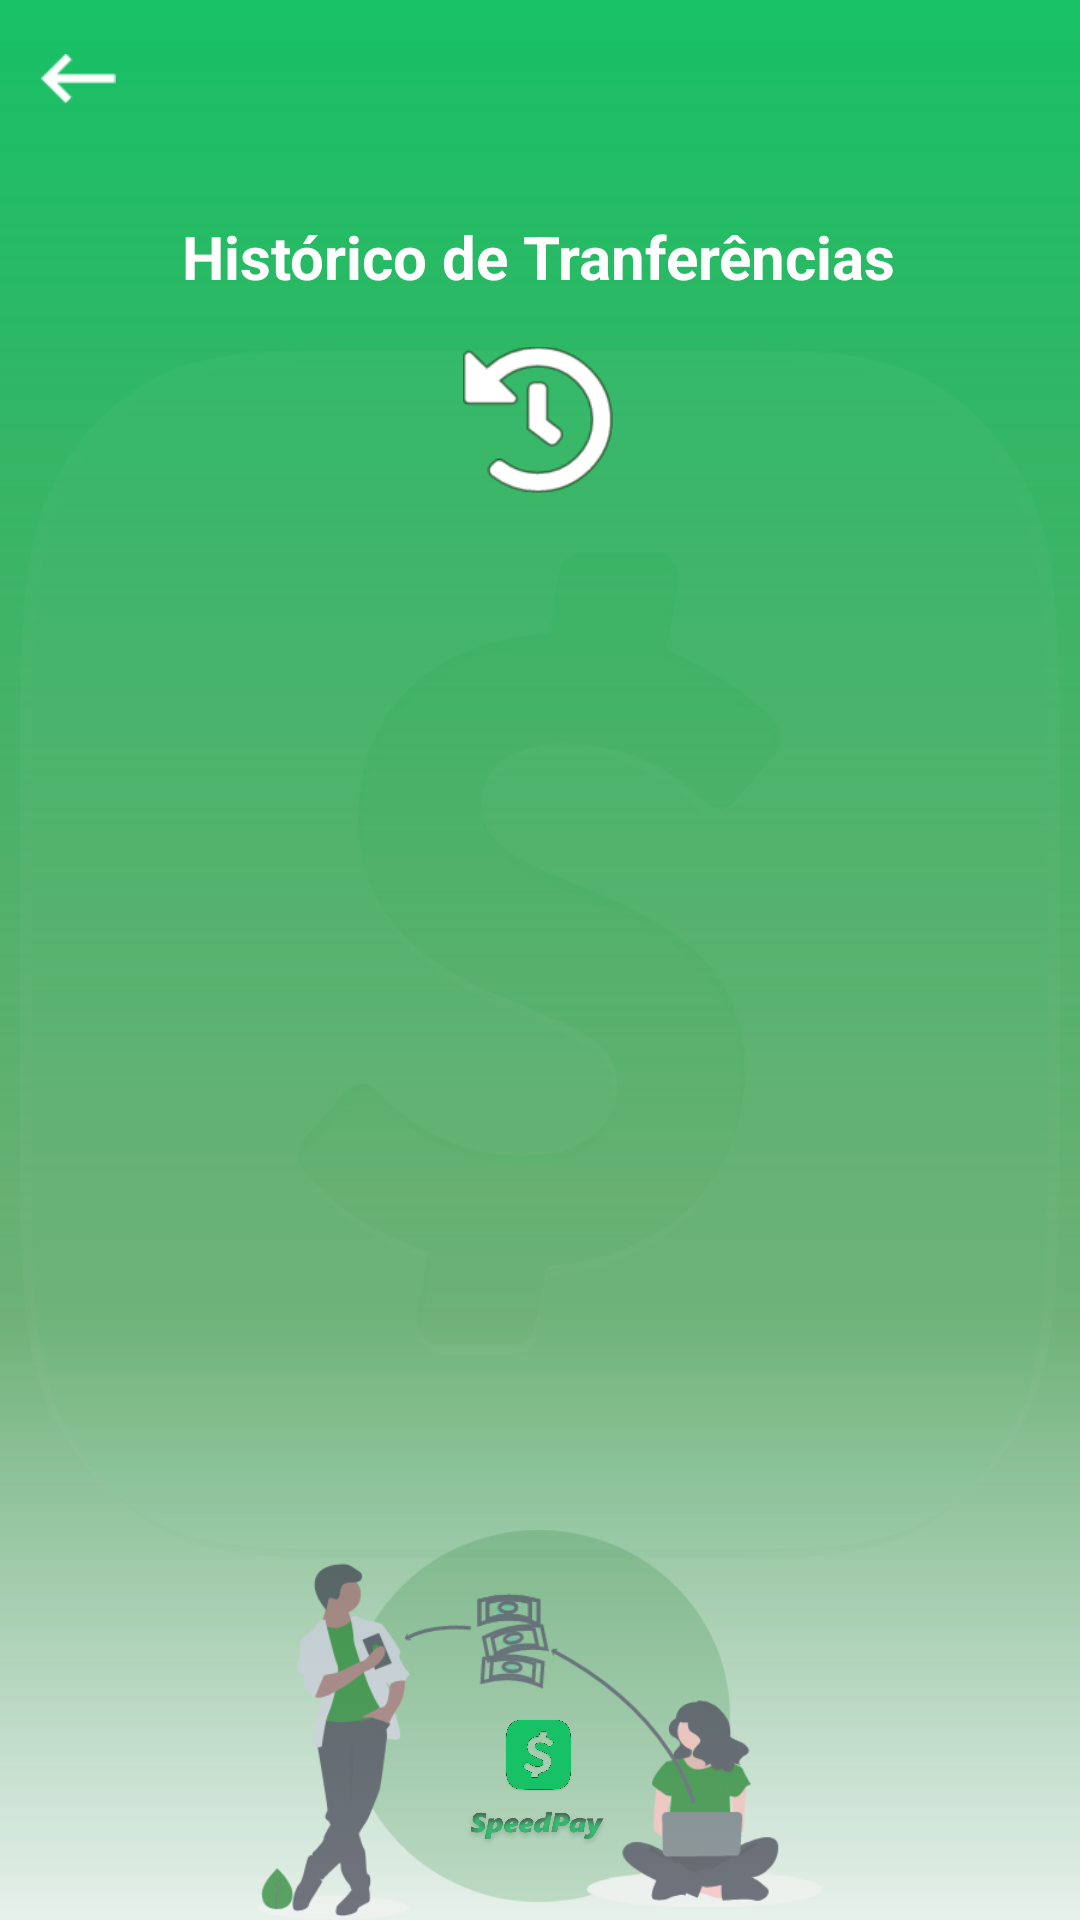

Where icons sit on this 1080px×1920px app screen, as (x1, y1, x2, y2):
historywhite: (463, 347, 613, 493)
